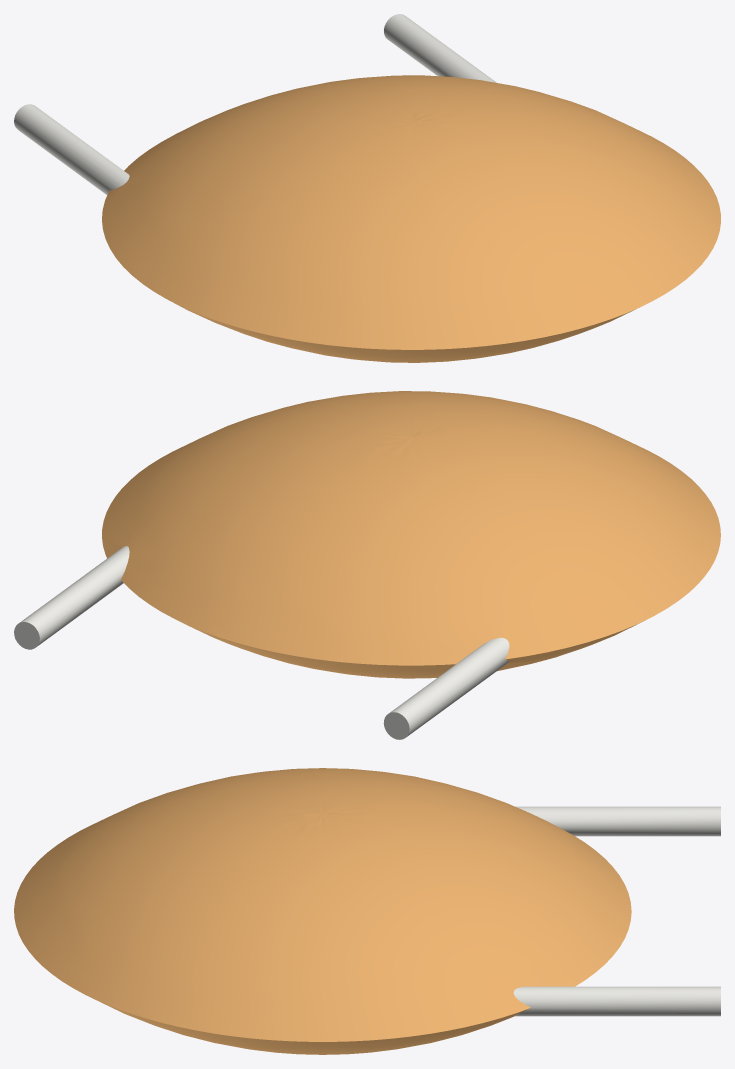
The model's file is C_Disc_D14.5mm_W5.0mm_P10.00mm.glb.
The picture shows the model from 3 angles, top to bottom: view 1: azimuth 30°, elevation 25°; view 2: azimuth 150°, elevation 25°; view 3: azimuth 270°, elevation 25°; orthographic projection.
Visible parts, largest first — view 1: Shape_IndexedFaceSet.002, Shape_IndexedFaceSet.003, Shape_IndexedFaceSet.004, Shape_IndexedFaceSet.001; view 2: Shape_IndexedFaceSet.002, Shape_IndexedFaceSet.004, Shape_IndexedFaceSet.001, Shape_IndexedFaceSet.003, Shape_IndexedFaceSet, Shape_IndexedFaceSet.005; view 3: Shape_IndexedFaceSet.002, Shape_IndexedFaceSet.001, Shape_IndexedFaceSet.004, Shape_IndexedFaceSet.003.
Part boxes in pixels (x1,y1,x2,y2): Shape_IndexedFaceSet.002: (102,75,720,349); Shape_IndexedFaceSet.003: (169,300,633,362); Shape_IndexedFaceSet.004: (14,104,129,194); Shape_IndexedFaceSet.001: (384,14,496,82); Shape_IndexedFaceSet.002: (102,391,720,665); Shape_IndexedFaceSet.004: (390,637,509,737); Shape_IndexedFaceSet.001: (19,546,129,646); Shape_IndexedFaceSet.003: (181,620,645,678); Shape_IndexedFaceSet: (14,622,39,649); Shape_IndexedFaceSet.005: (383,712,409,739); Shape_IndexedFaceSet.002: (14,768,631,1041); Shape_IndexedFaceSet.001: (513,986,720,1016); Shape_IndexedFaceSet.004: (515,806,720,836); Shape_IndexedFaceSet.003: (94,999,528,1054).
Bounding box in the file's own units: 5.71 × 1.97 × 6.54.
